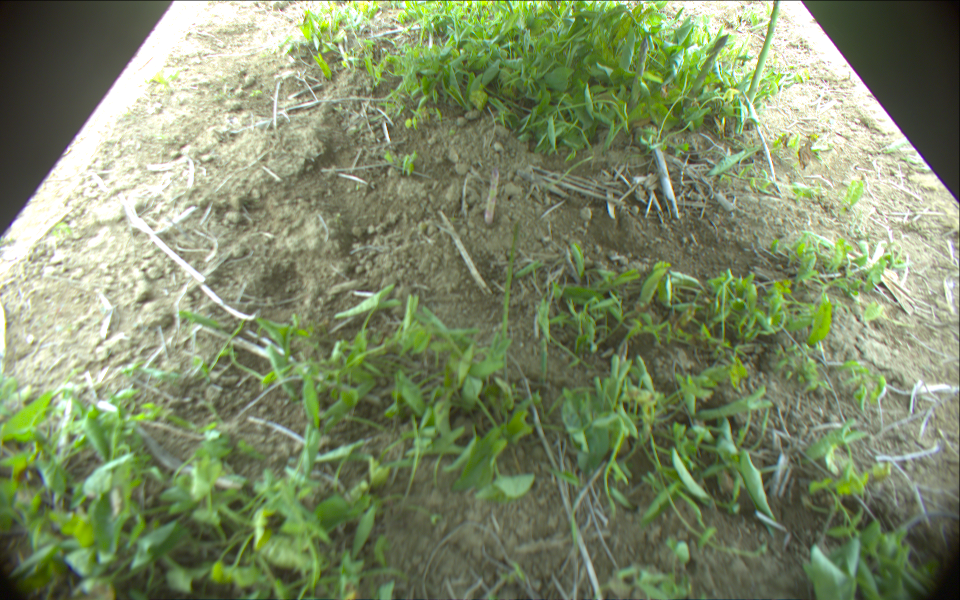aspa: (744, 1, 779, 108), (499, 219, 520, 363)
